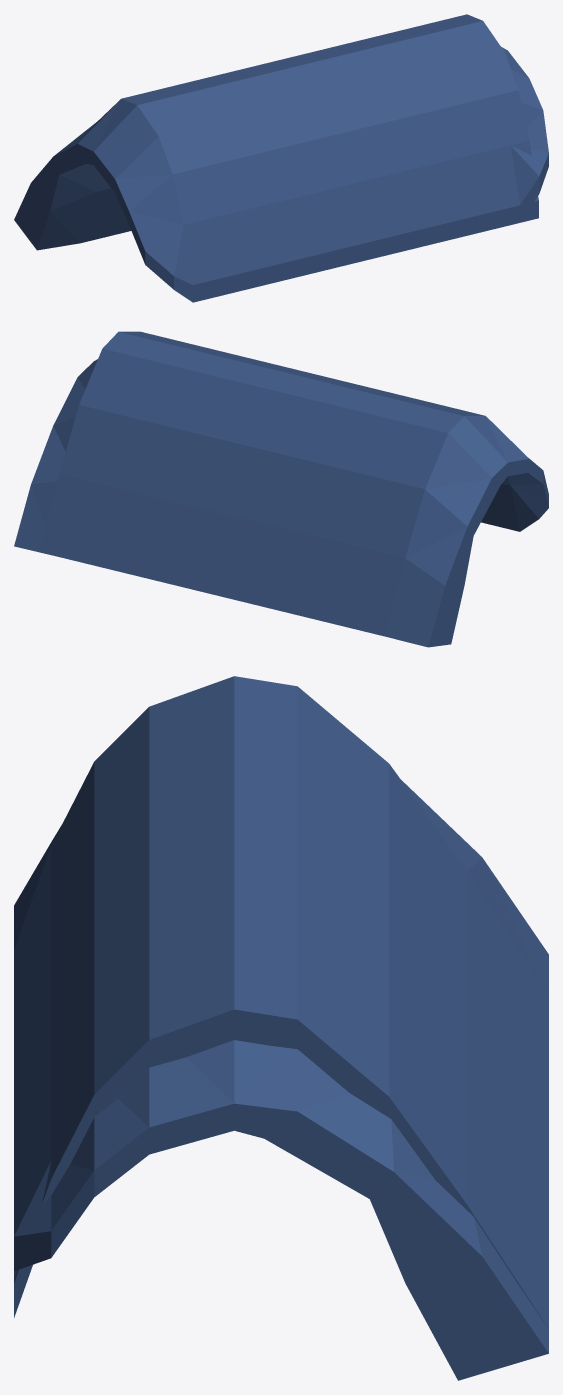
The model's file is wheel-cowl.dae.
3 views of the same model, one above another, from view 1: azimuth 30°, elevation 25°; view 2: azimuth 150°, elevation 25°; view 3: azimuth 270°, elevation 25° (orthographic). The views are drawn at different scales.
Parts seen in each view (by area): view 1: Cube_017; view 2: Cube_017; view 3: Cube_017.
Boxes of the visible parts, bbox=[...] form: Cube_017: bbox=[14, 14, 548, 302]; Cube_017: bbox=[14, 331, 548, 647]; Cube_017: bbox=[14, 676, 548, 1380].
Size of the model in its own units: 1.21 by 0.6859 by 0.5015.
